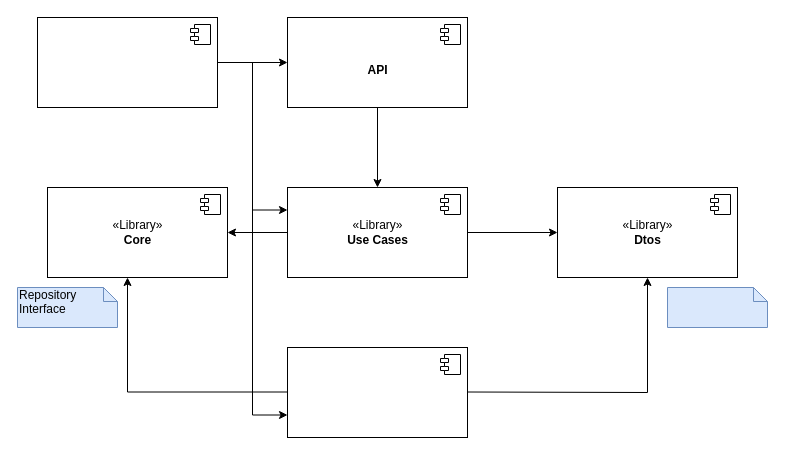
This 785x455 diagram has some shape labels left out. Each missing label, with the centre of its shape:
"- Requests - Responses" goes at [717,307].
"«Library» Repository" goes at [377,392].
"«Service» Startup" goes at [127,62].
